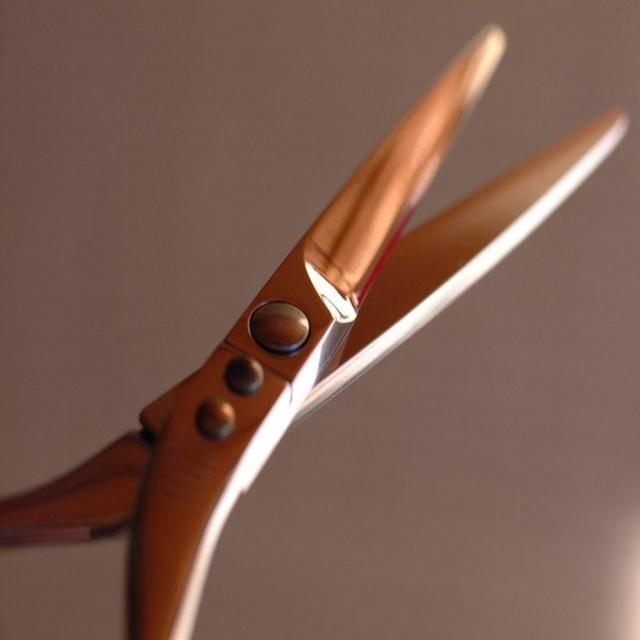scissor: (0, 19, 638, 638)
